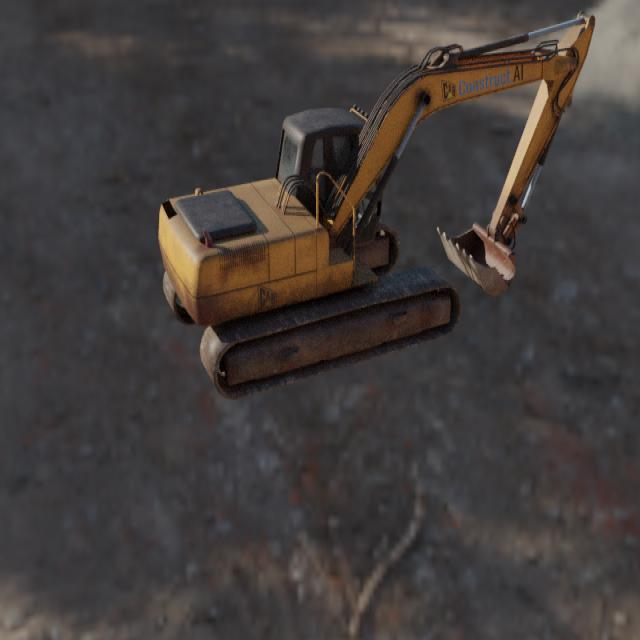excavator: (157, 9, 596, 400)
